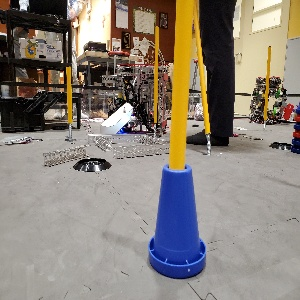Blue_1: (146, 161, 207, 279)
